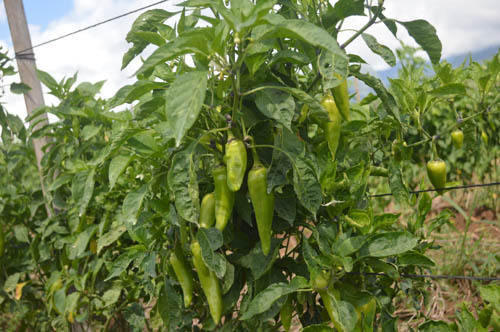ChiliPepper: (246, 170, 275, 252), (189, 260, 221, 321), (208, 167, 232, 236), (222, 141, 250, 188), (318, 97, 340, 153), (166, 256, 192, 303), (420, 161, 448, 193), (193, 196, 218, 228), (190, 241, 205, 275)
